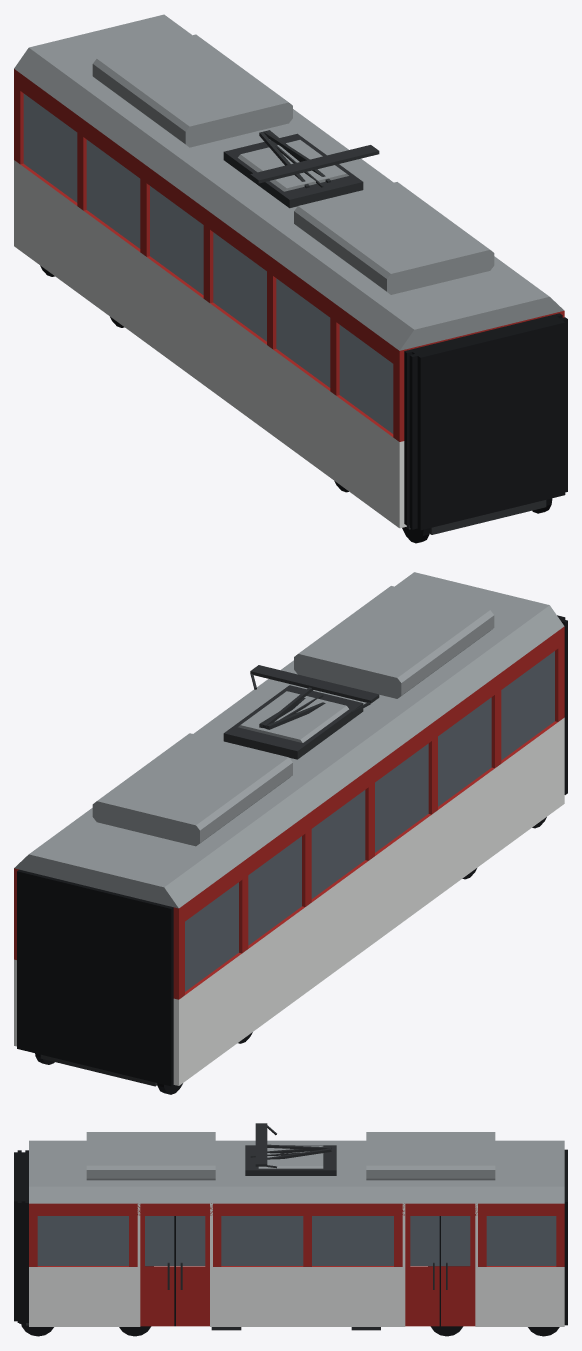
The picture shows the model from 3 angles, top to bottom: view 1: azimuth 30°, elevation 25°; view 2: azimuth 150°, elevation 25°; view 3: azimuth 270°, elevation 25°; orthographic projection. The views are drawn at different scales.
Parts seen in each view (by area): view 1: 15t-b; view 2: 15t-b; view 3: 15t-b.
Part boxes in pixels (x1,y1,x2,y2): 15t-b: (14,14,567,543); 15t-b: (14,572,567,1094); 15t-b: (14,1123,567,1336).
Size of the model in its own units: 2.46 by 3.5 by 10.3.
